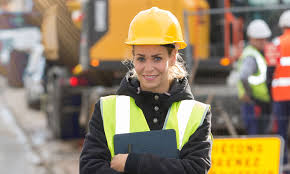helmet: (121, 8, 189, 49)
vest: (100, 95, 208, 174)
